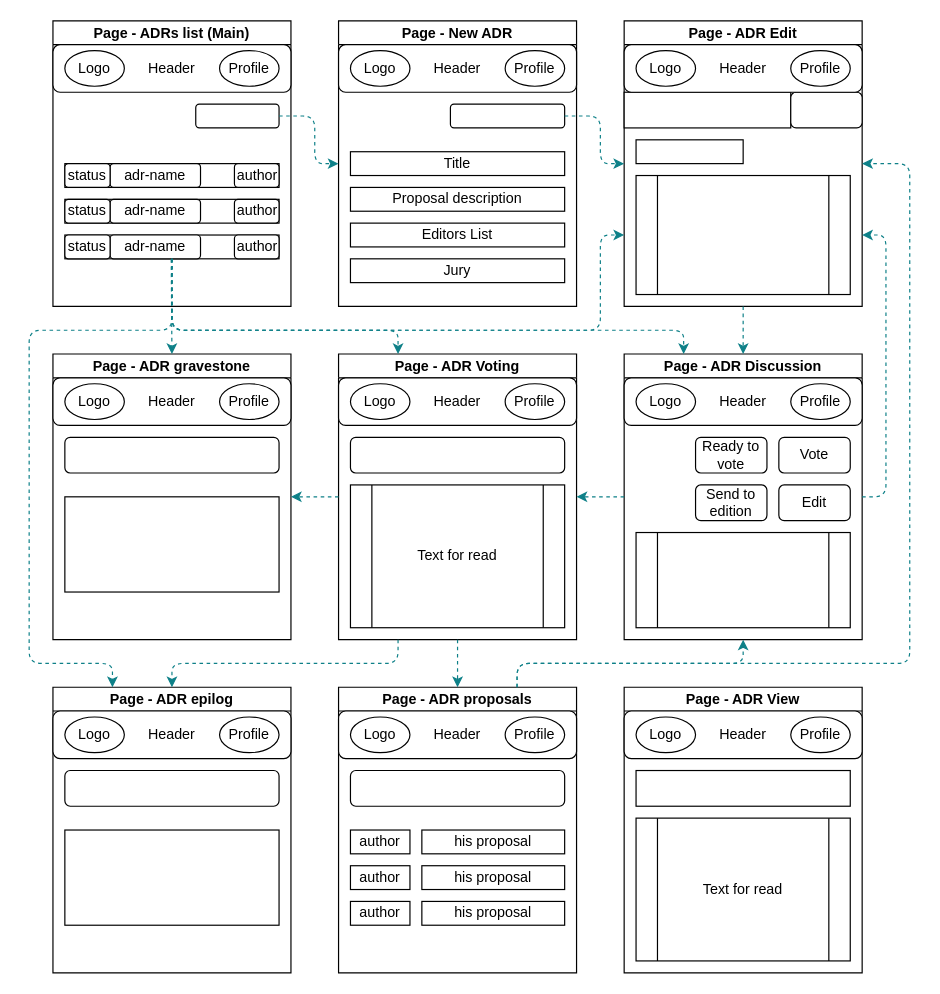
The diagram is 940 pixels wide and 994 high, and some of its shapes have lost their labels. The shapes that lost their labels are listed below. From the top down, each one's centre as x and y in pixels, then its label:
At point 237,115: "New ADR".
At point 507,115: "Create draft".
At point 707,109: "Head info compact (title/desc/...)".
At point 826,109: "Publish".
At point 689,151: "{version}-draft".
At point 742,234: "Text editor. Autosave.".
At point 171,454: "Close".
At point 457,454: "Voting process".
At point 171,544: "gravestone".
At point 742,579: "Text for discussion".
At point 171,787: "Accept".
At point 457,787: "In work".
At point 742,787: "Assepted/Closed".
At point 171,877: "epilog".
